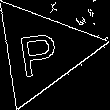P_N: (19, 23, 65, 78)
